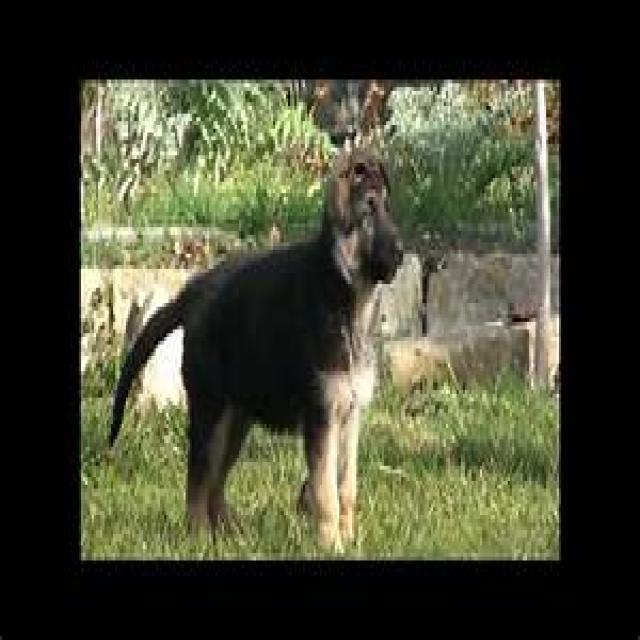dog: (111, 155, 404, 547)
